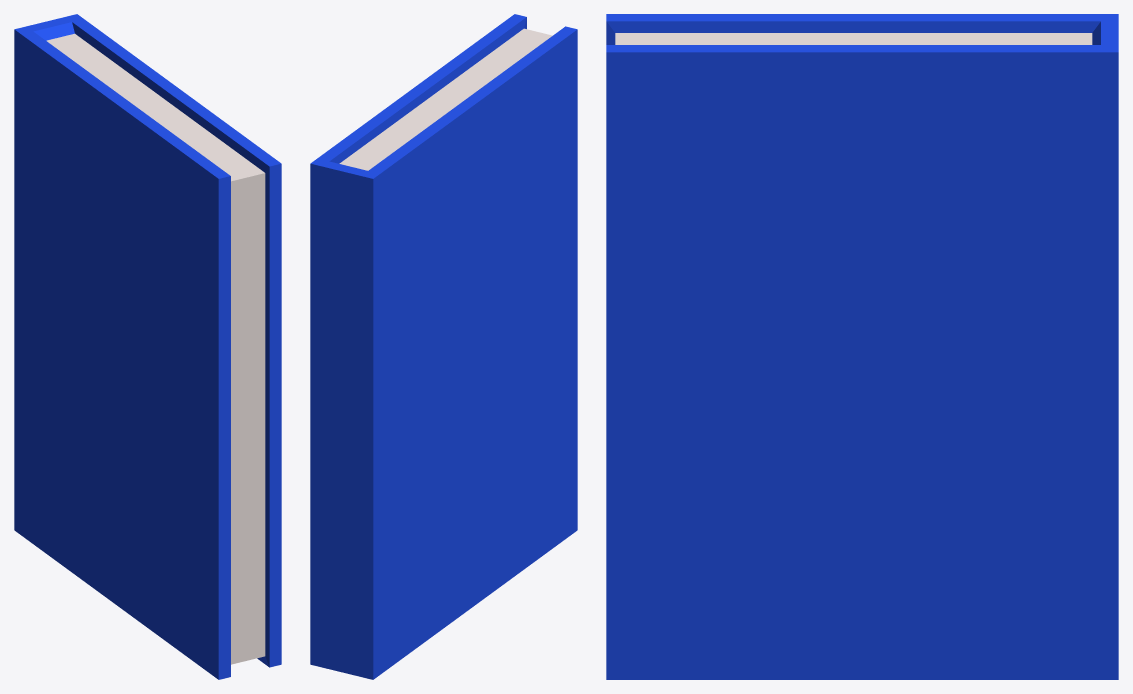
Rendered from Book_Blue.fbx.
The picture shows the model from 3 angles, left to right: view 1: azimuth 30°, elevation 25°; view 2: azimuth 150°, elevation 25°; view 3: azimuth 270°, elevation 25°; orthographic projection. The views are drawn at different scales.
Parts seen in each view (by area): view 1: Book_Blue; view 2: Book_Blue; view 3: Book_Blue.
Boxes of the visible parts, <box> form: Book_Blue: <box>14,14,281,679</box>; Book_Blue: <box>310,14,577,679</box>; Book_Blue: <box>606,14,1118,679</box>.
Size of the model in its own units: 6.08 by 46.32 by 34.25.
